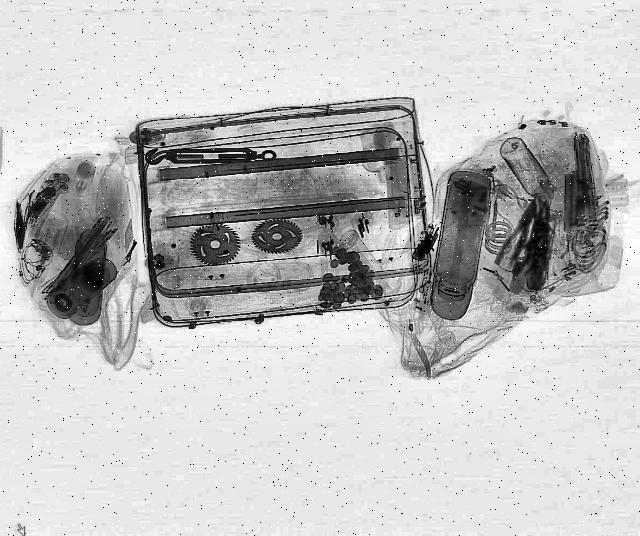Pliers: (492, 197, 550, 271)
